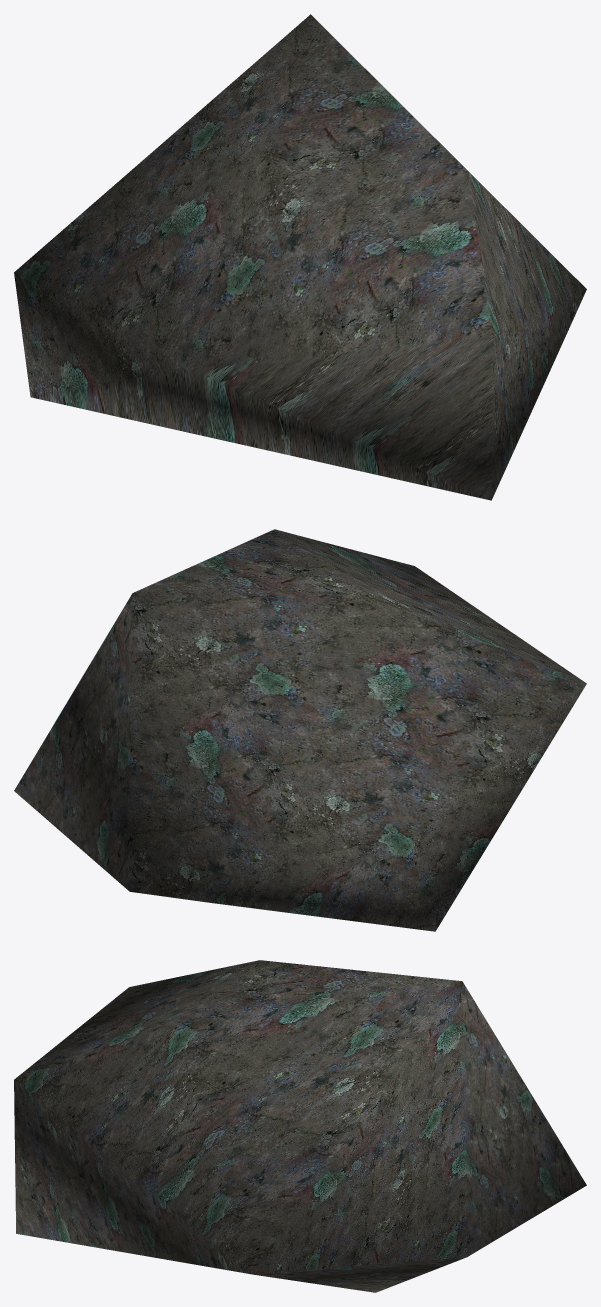
File: rock_forestriverrock_sm_l2.fbx
3 views of the same model, one above another, from view 1: azimuth 30°, elevation 25°; view 2: azimuth 150°, elevation 25°; view 3: azimuth 270°, elevation 25° (orthographic). The views are drawn at different scales.
Parts seen in each view (by area): view 1: mesh_node; view 2: mesh_node; view 3: mesh_node.
Boxes of the visible parts, x1,y1,x2,y2 form: mesh_node: (14,14,586,500); mesh_node: (14,529,586,931); mesh_node: (14,960,586,1292).
Size of the model in its own units: 0.5237 by 0.3783 by 0.599.
1 material, 1 textured.
